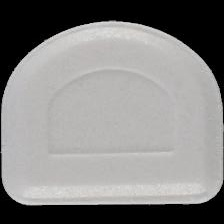65084-123: (0, 0, 224, 224)
